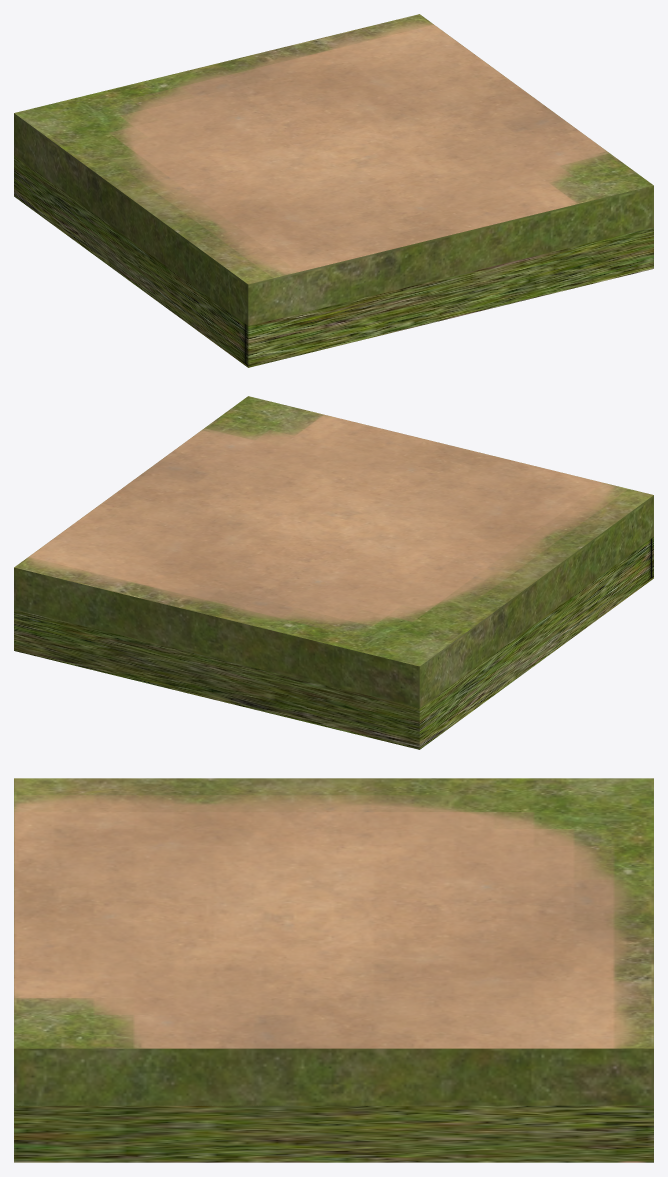
Rendered from tile-compound-turn.glb.
3 renders of one model, top to bottom at view 1: azimuth 30°, elevation 25°; view 2: azimuth 150°, elevation 25°; view 3: azimuth 270°, elevation 25°, orthographic. The views are drawn at different scales.
Visible parts, largest first — view 1: Cube.001, Cube; view 2: Cube.001, Cube; view 3: Cube.001, Cube.
Part boxes in pixels (left/top/right/bottom): Cube.001: left=14, top=14, right=653, bottom=325; Cube: left=14, top=155, right=653, bottom=367; Cube.001: left=14, top=396, right=653, bottom=707; Cube: left=14, top=537, right=653, bottom=749; Cube.001: left=14, top=778, right=653, bottom=1105; Cube: left=14, top=1105, right=653, bottom=1162.
Bounding box in the file's own units: 1 × 0.1963 × 1.
Materials: 2 (2 with a texture image).
